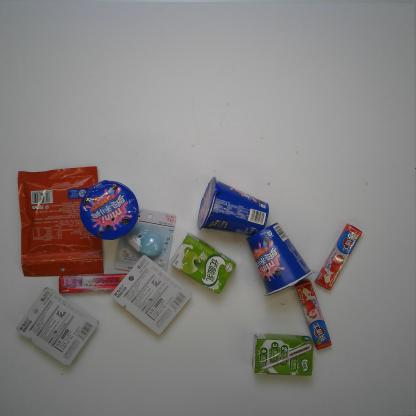Candy: (313, 223, 363, 291), (295, 278, 332, 350), (58, 272, 131, 294)
Dessert: (245, 222, 314, 297), (197, 176, 270, 236), (79, 179, 139, 241)
Dried Fruit: (17, 165, 104, 277)
Milk: (170, 233, 238, 294), (251, 332, 314, 377)
Stationery: (110, 254, 193, 335), (16, 287, 100, 366), (114, 208, 177, 275)
